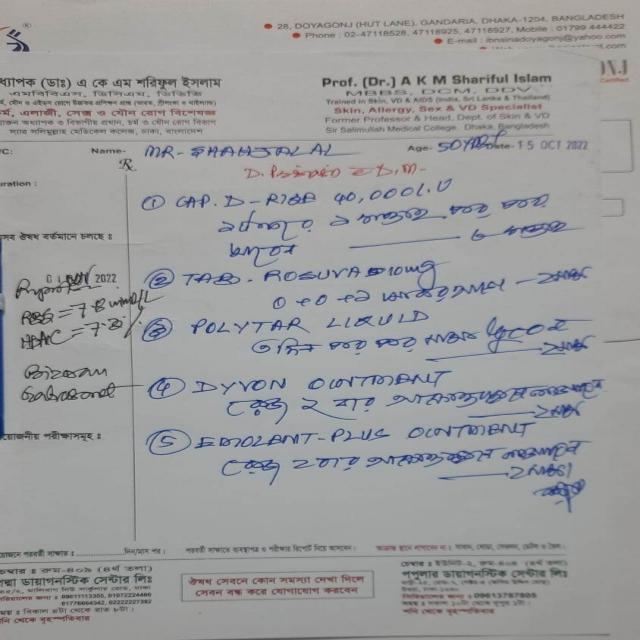D-Rise: (220, 190, 321, 212)
Dyvon: (188, 424, 396, 453), (189, 371, 295, 397)
Polytar Liquid: (181, 310, 433, 335)
Rosuva: (256, 265, 367, 285)
